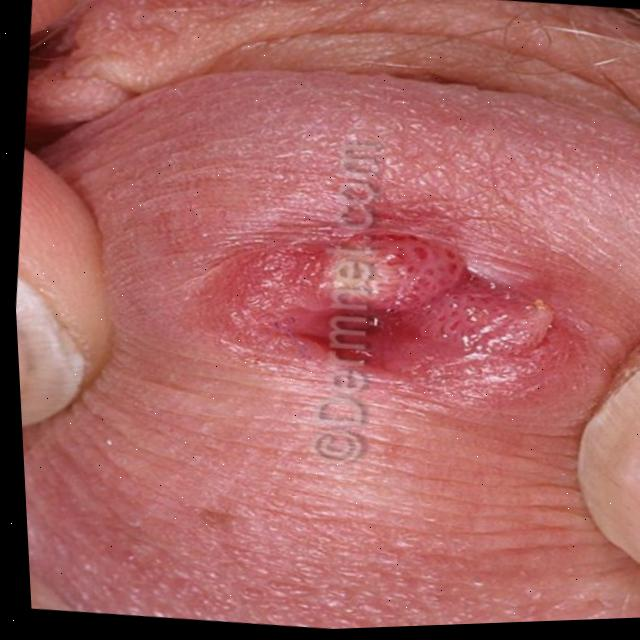Shingles: (197, 211, 567, 410)
